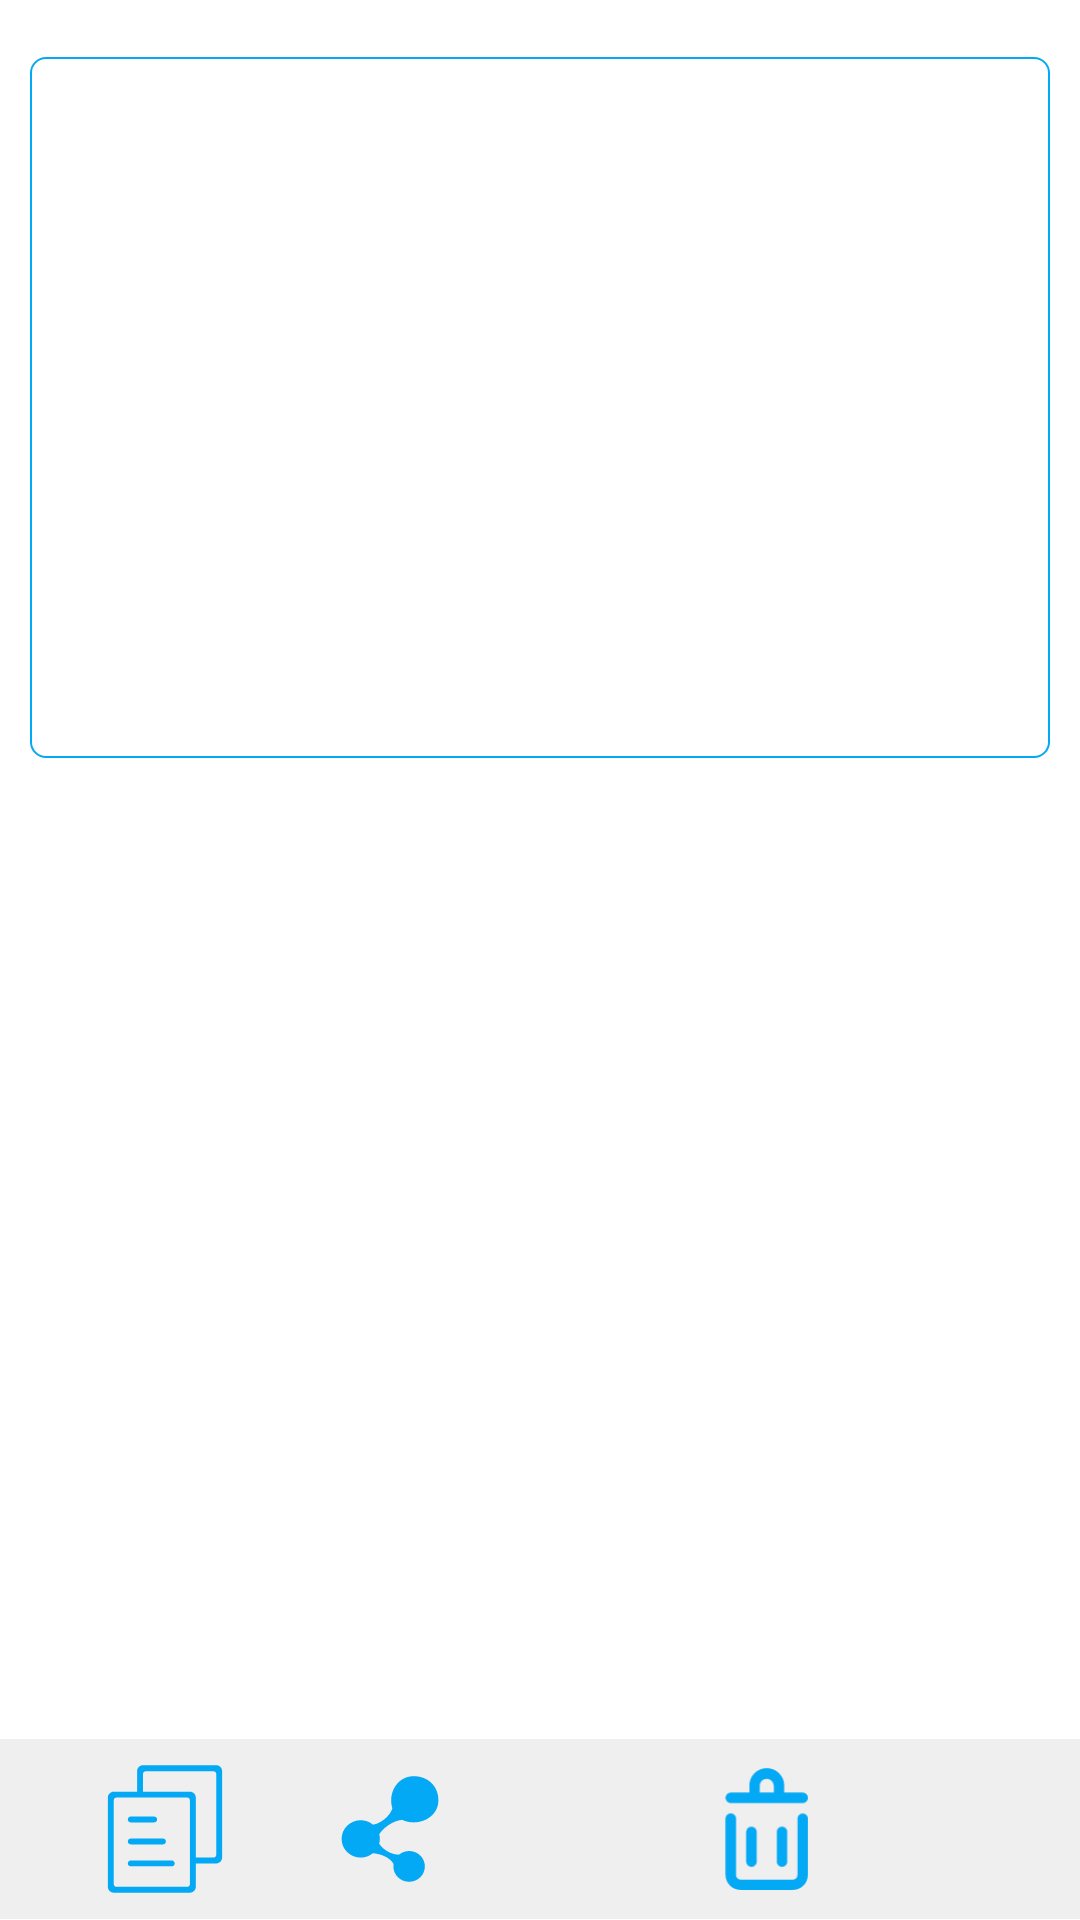

Point at icon controls on the screen. Image size 1080x1920, points as point (x, y).
result delete: point (766, 1829)
result share: point (390, 1829)
